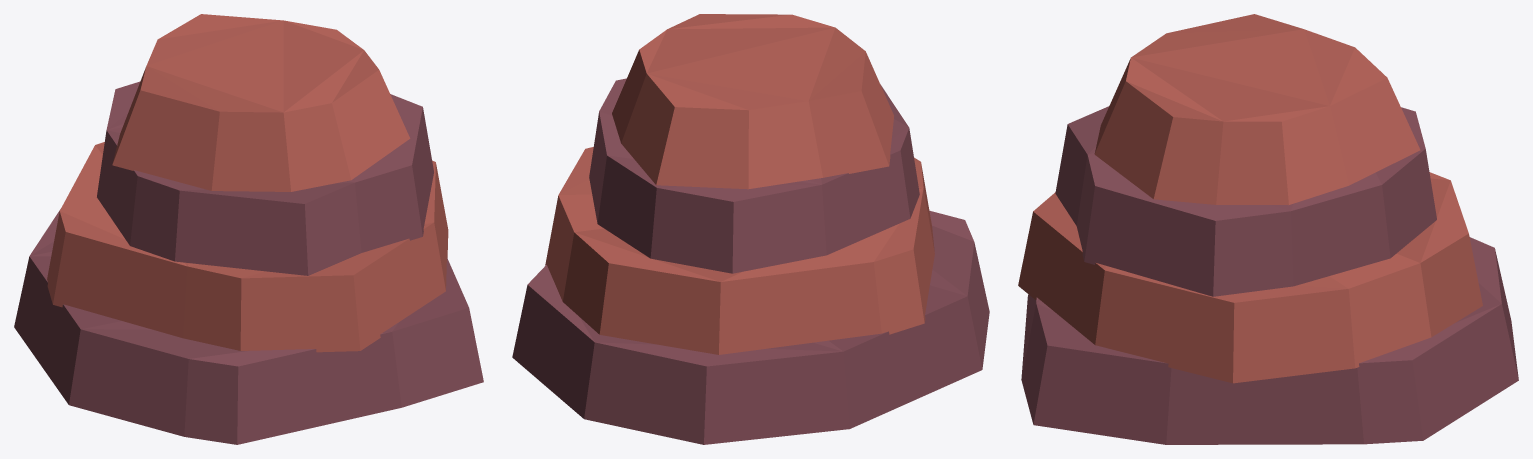
File: Rock_Mesa_B.fbx
The picture shows the model from 3 angles, left to right: view 1: azimuth 30°, elevation 25°; view 2: azimuth 150°, elevation 25°; view 3: azimuth 270°, elevation 25°; orthographic projection. The views are drawn at different scales.
Visible parts, largest first — view 1: Rock_Mesa_B; view 2: Rock_Mesa_B; view 3: Rock_Mesa_B.
Boxes of the visible parts, x1,y1,x2,y2 form: Rock_Mesa_B: (14,14,483,444); Rock_Mesa_B: (512,14,989,444); Rock_Mesa_B: (1018,14,1518,444).
Size of the model in its own units: 27.14 by 18 by 28.34.
